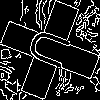U: (25, 25, 82, 76)
